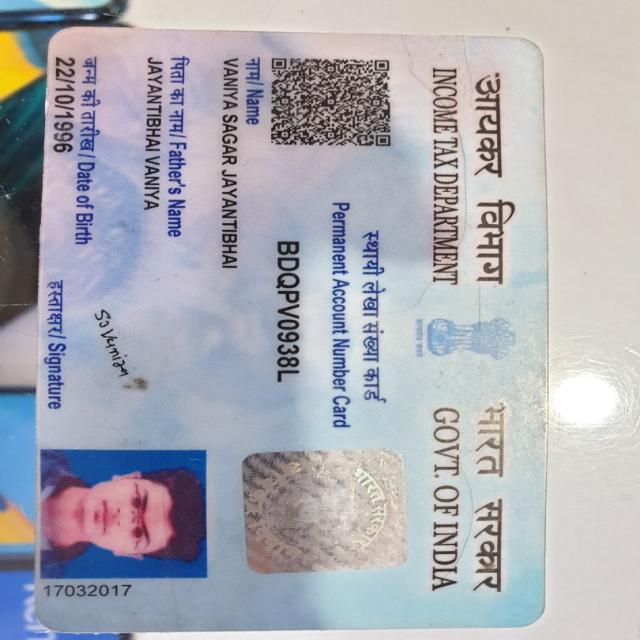pan_card: (41, 30, 544, 627)
